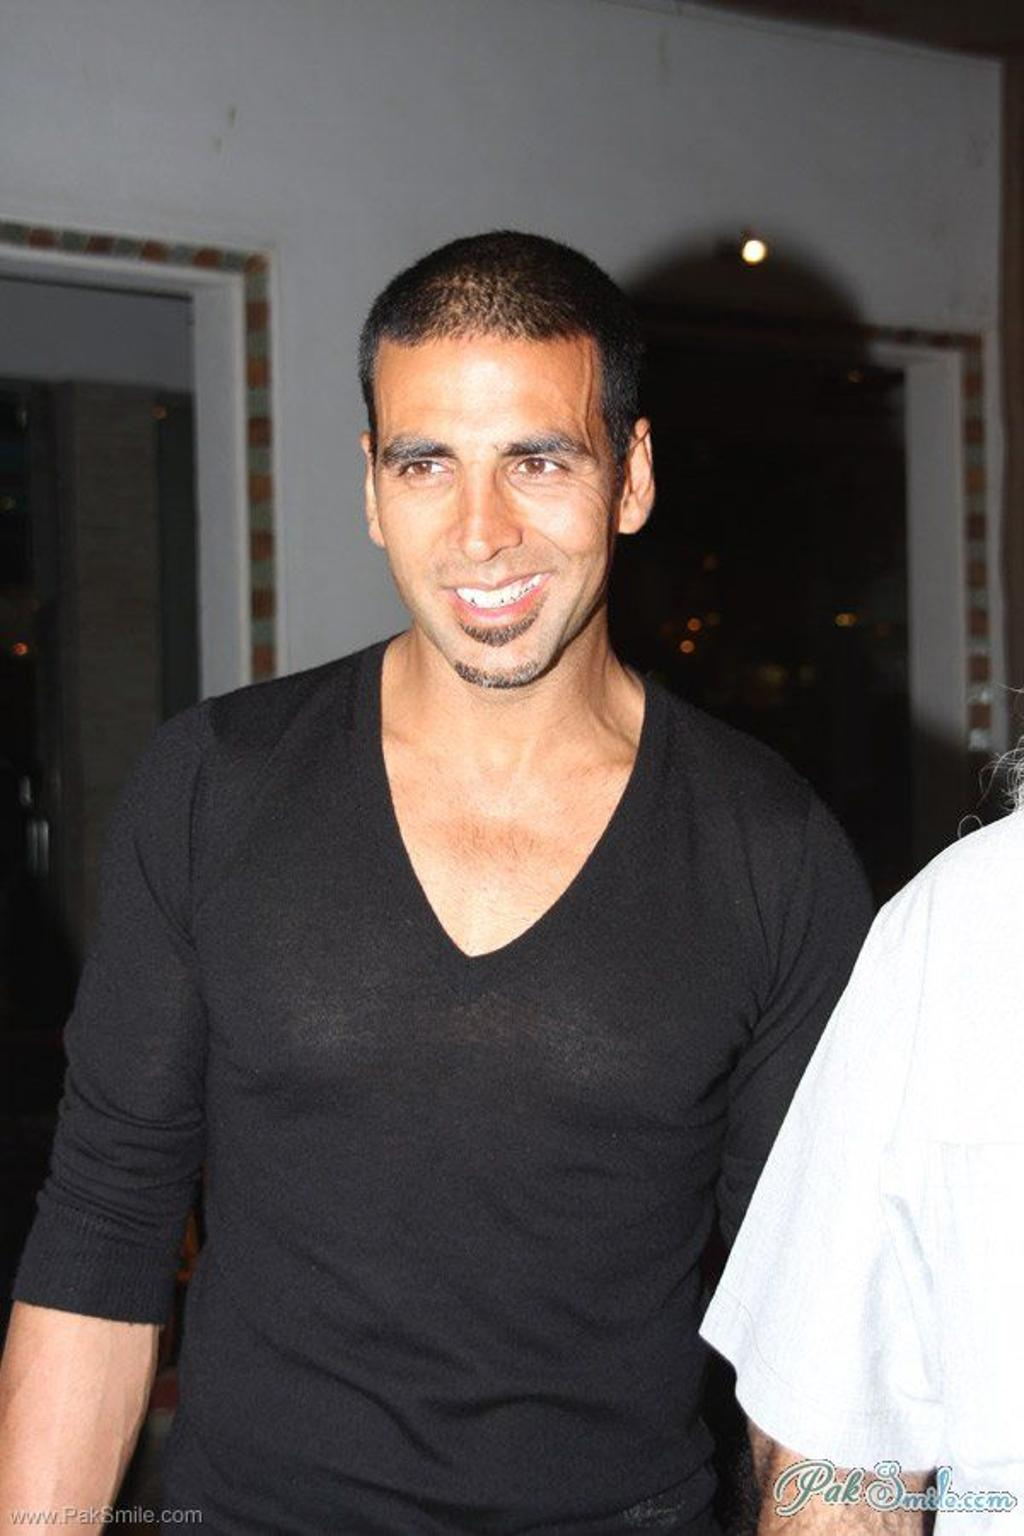face: (369, 342, 621, 690)
